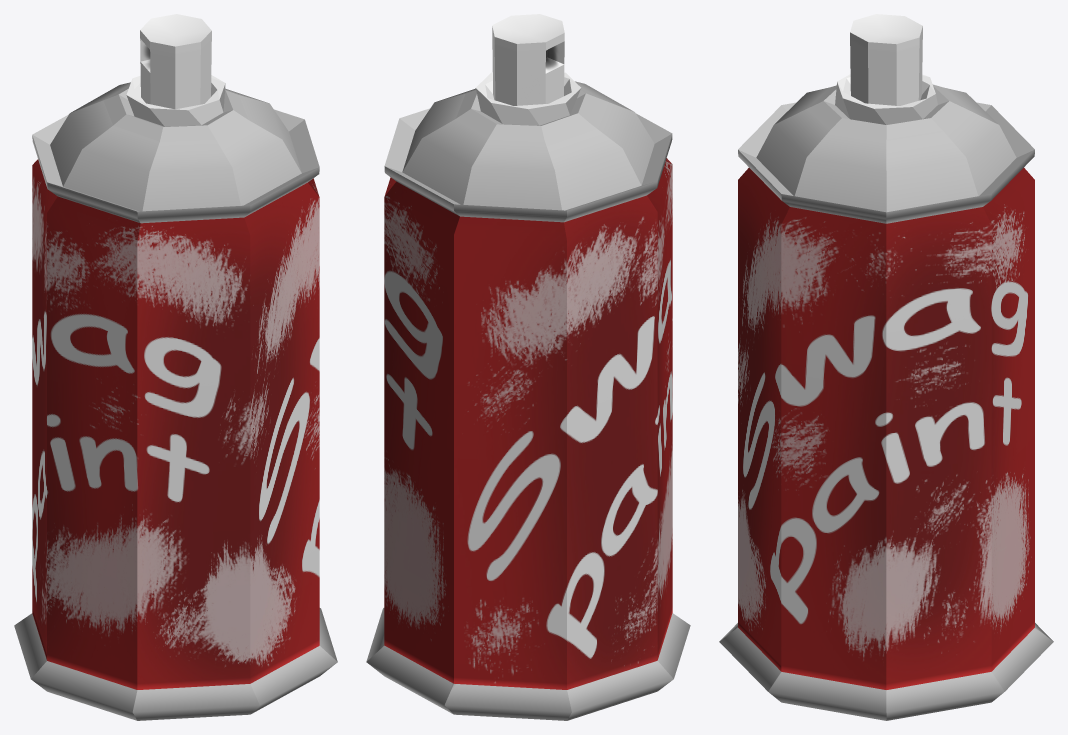
Rendered from spray can.fbx.
3 renders of one model, left to right at view 1: azimuth 30°, elevation 25°; view 2: azimuth 150°, elevation 25°; view 3: azimuth 270°, elevation 25°, orthographic.
Parts seen in each view (by area): view 1: spray_can; view 2: spray_can; view 3: spray_can.
Boxes of the visible parts, <box> form: spray_can: <box>14,14,337,720</box>; spray_can: <box>366,14,690,720</box>; spray_can: <box>719,14,1053,720</box>.
Size of the model in its own units: 2.25 by 4.67 by 2.25.
